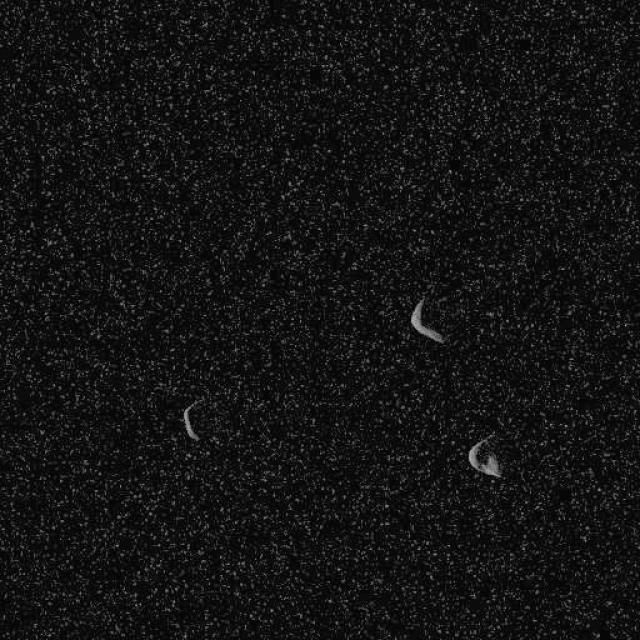D2: (409, 296, 445, 344), (467, 435, 502, 479), (180, 396, 202, 442)
